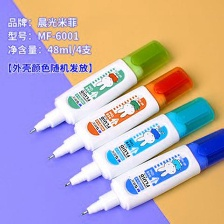correction_fluid: (60, 95, 217, 190), (45, 64, 197, 161), (26, 37, 173, 135), (77, 125, 224, 217)
